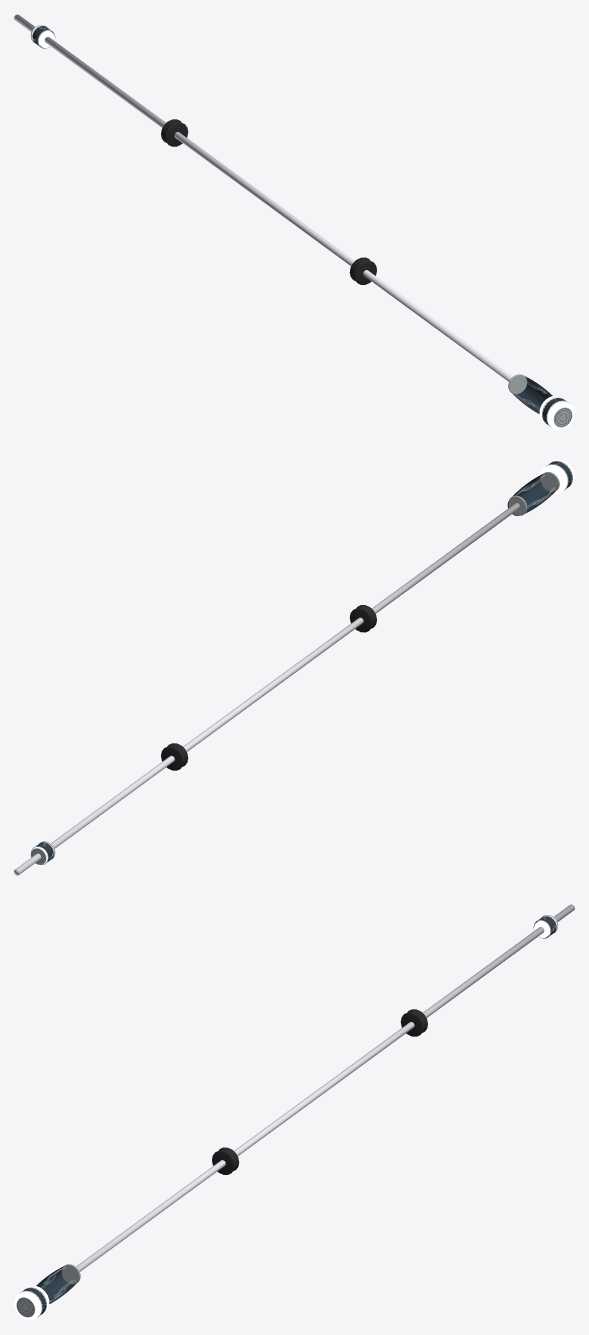
The model's file is fuzeball_rod_1man.glb.
3 views of the same model, one above another, from view 1: azimuth 30°, elevation 25°; view 2: azimuth 150°, elevation 25°; view 3: azimuth 330°, elevation 25° (orthographic).
Visible parts, largest first — view 1: rod1_bar.002, rod1_handle_silver_grip; view 2: rod1_bar.002, rod1_handle_silver_grip; view 3: rod1_bar.002, rod1_handle_silver_grip.
Boxes of the visible parts, box(x1,y1,x2,y2) form: rod1_bar.002: box(14, 14, 512, 381); rod1_handle_silver_grip: box(512, 376, 552, 413); rod1_bar.002: box(14, 503, 520, 875); rod1_handle_silver_grip: box(507, 473, 556, 515); rod1_bar.002: box(76, 904, 574, 1271); rod1_handle_silver_grip: box(36, 1266, 76, 1303).
Size of the model in its own units: 3.45 by 3.45 by 124.
